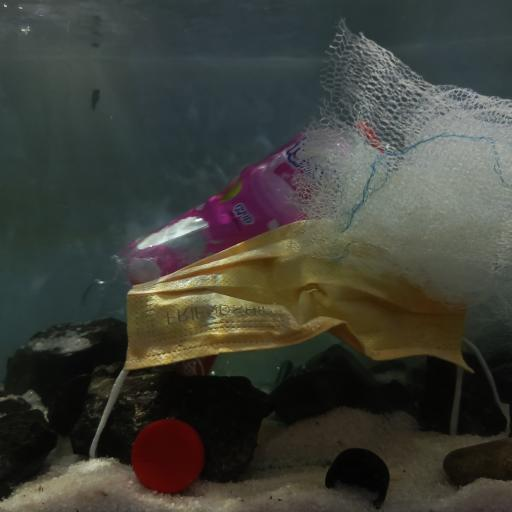bottle_cap: (133, 420, 204, 491), (324, 446, 390, 506)
mask: (120, 218, 493, 388)
net: (287, 18, 512, 334)
plastic_bottle: (110, 107, 396, 287), (80, 278, 294, 398)
